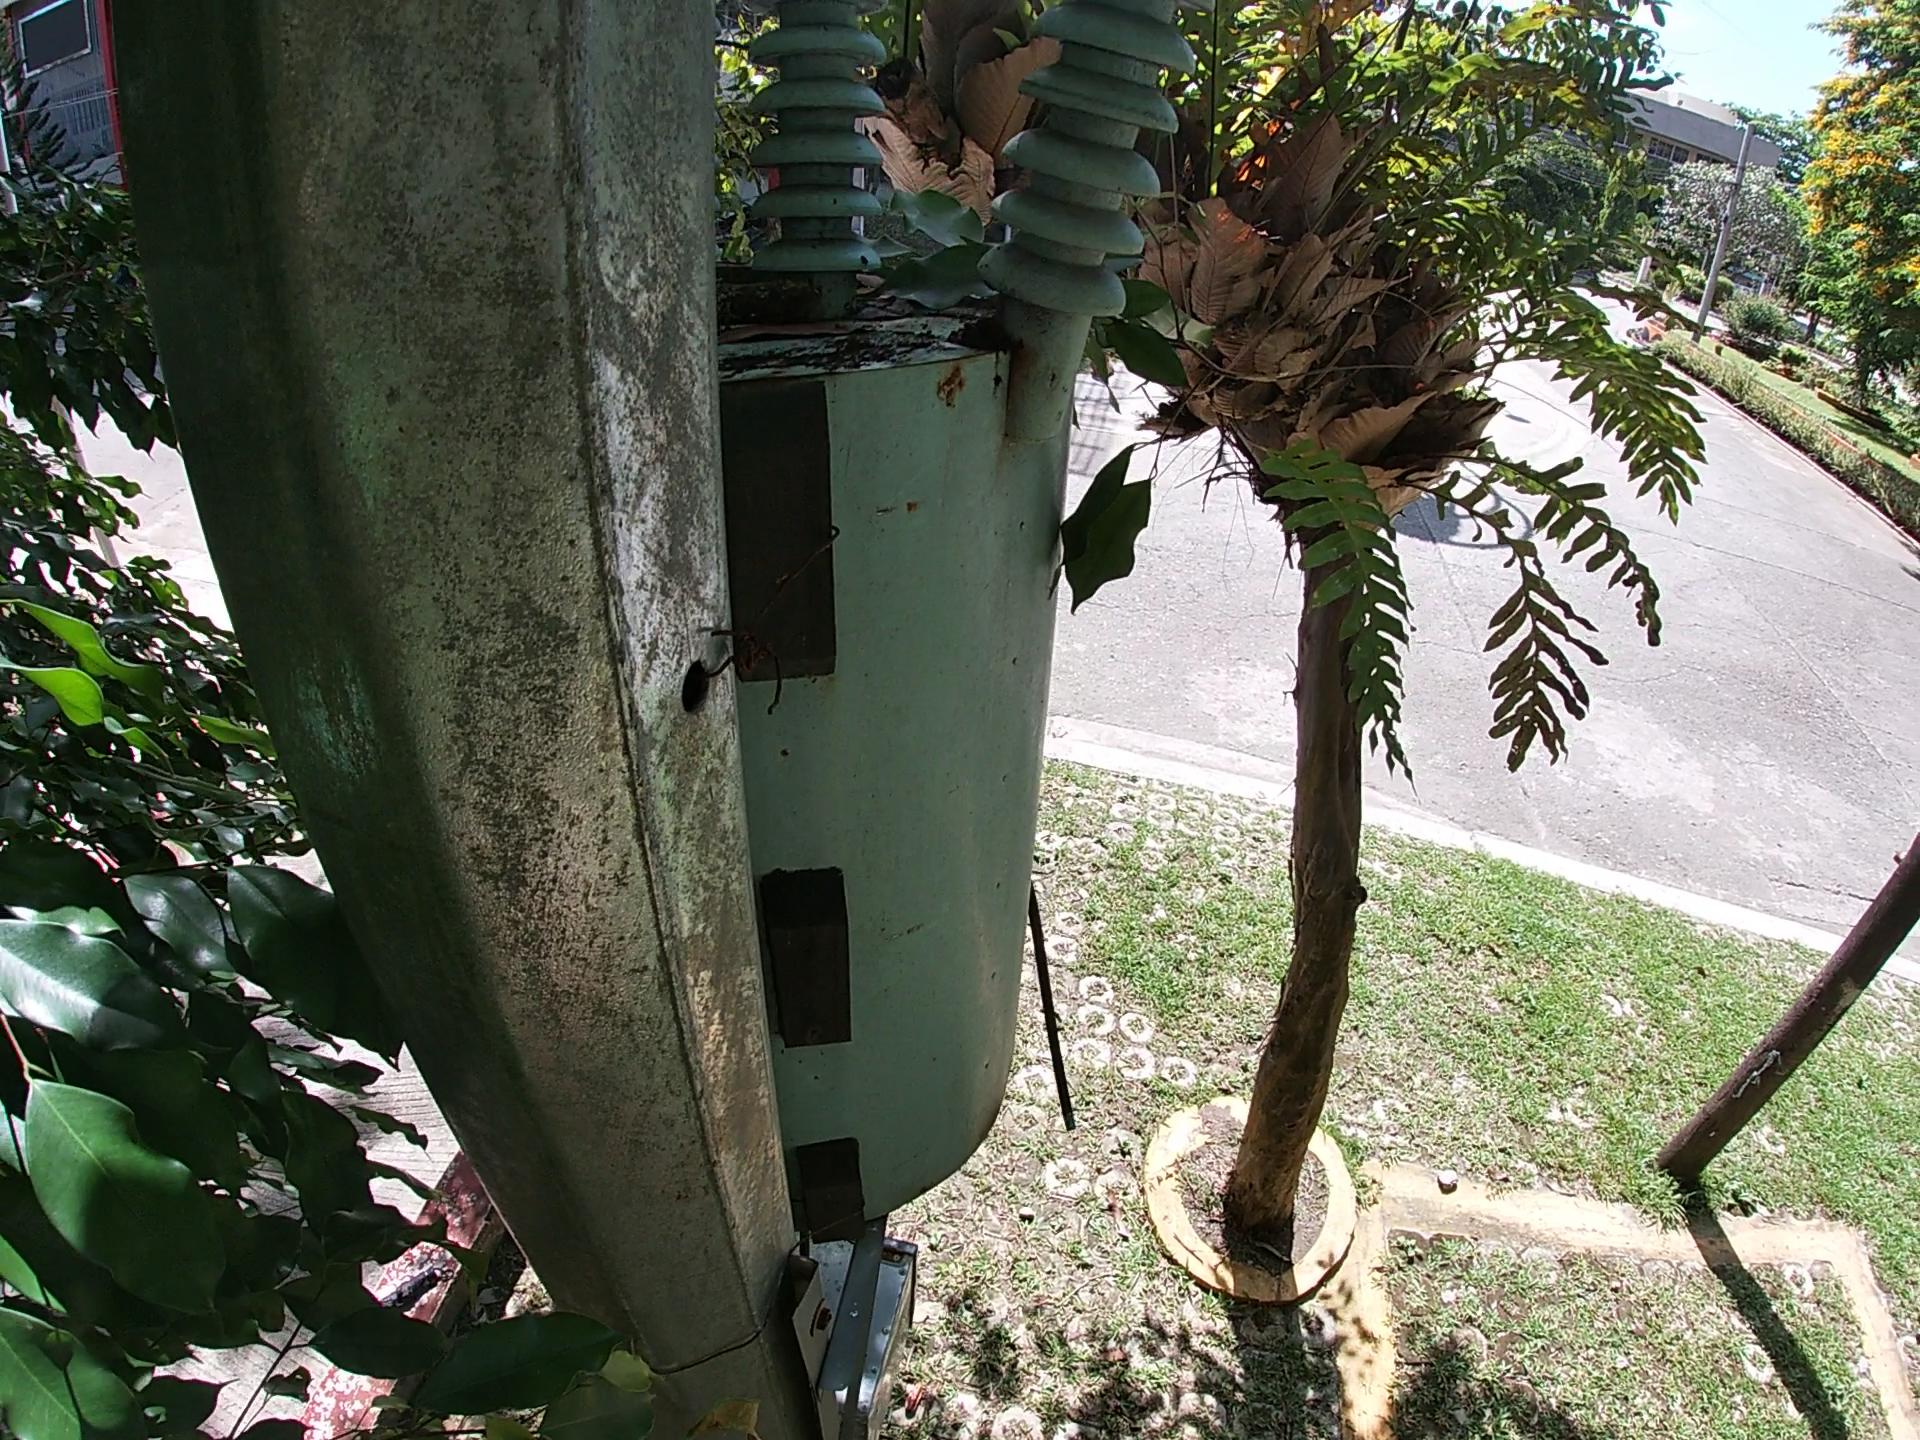branch with leaves: (1055, 163, 1264, 628)
leaf: (874, 160, 1008, 303), (721, 319, 859, 340)
tree branch: (703, 269, 819, 306)
